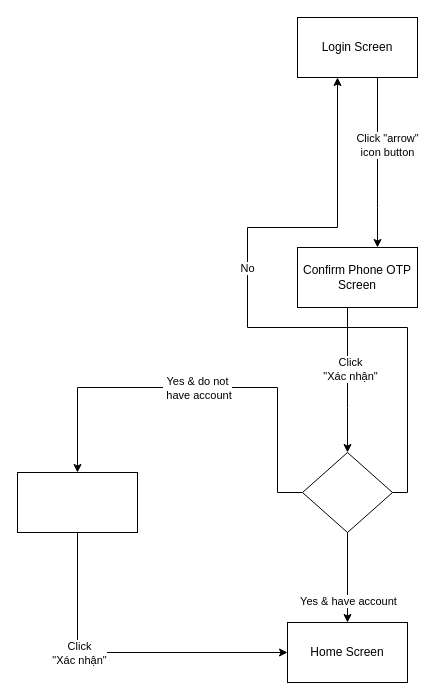
Image size: 435x700. Some labels were removed from this diagram. The shapes that lost their labels are listed below. From the top down, each one's centre as x and y in pixels, then its label:
At point (77, 502): "Enter Name Screen".
At point (347, 492): "Is confirm success?".
